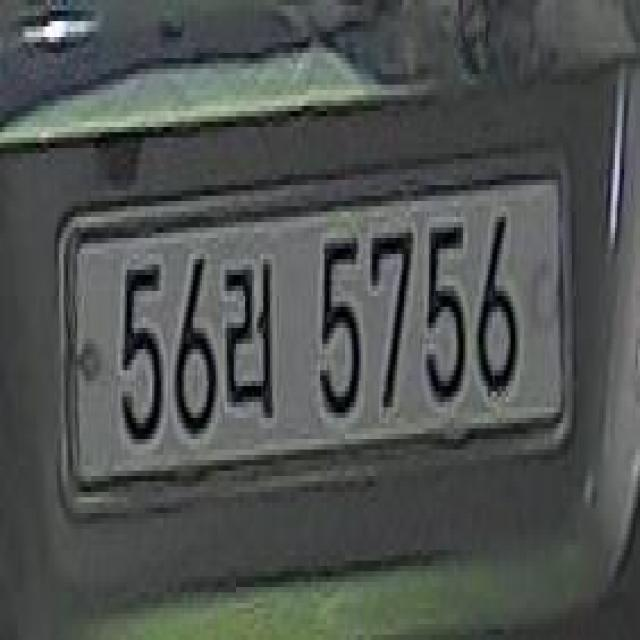illegal_plate: (62, 158, 569, 500)
